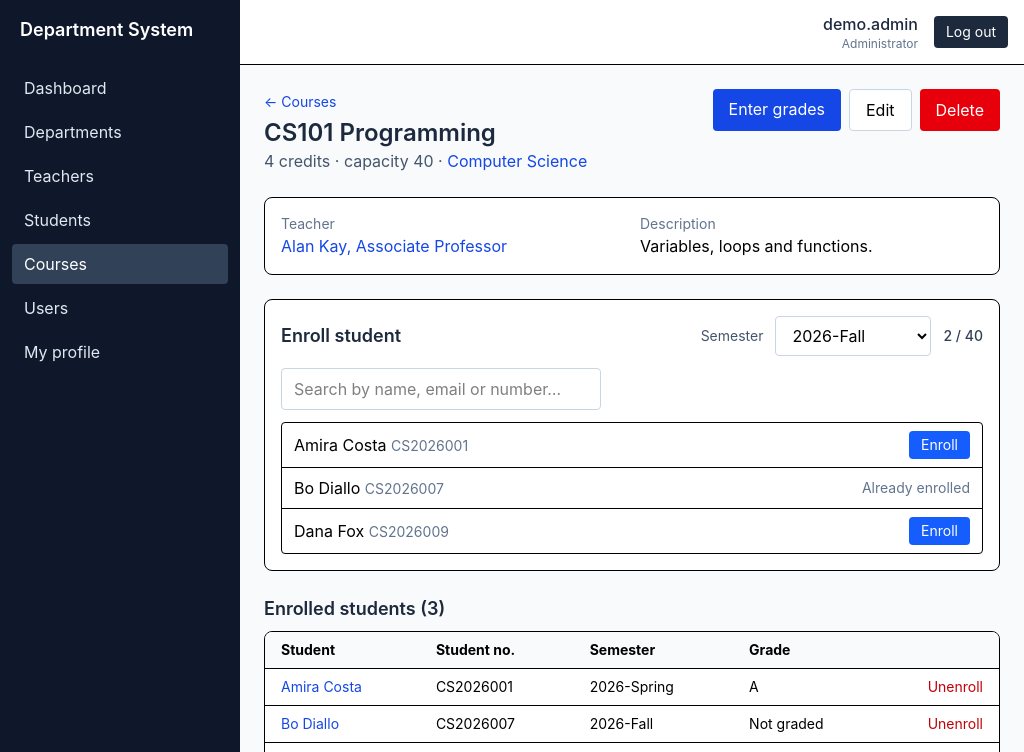
Test: picker › enrolls a student for the selected semester and refreshes the roster
Select "2027-Spring" in the dropdown labelled "Semester": (854, 336) [776, 316, 932, 356]
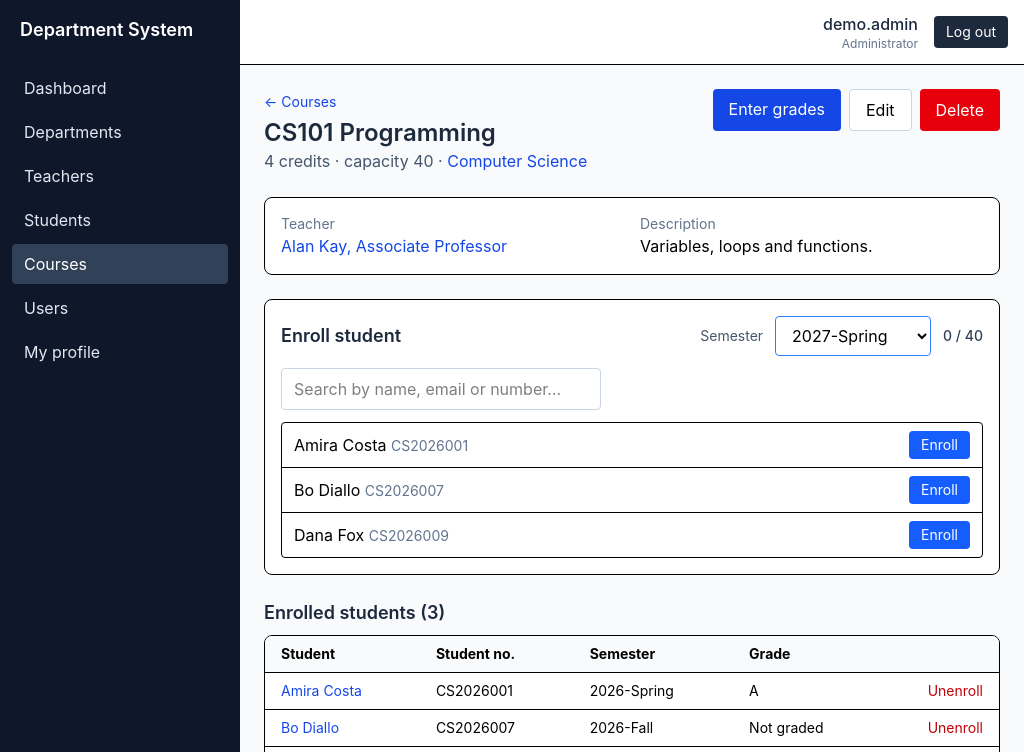
Click the button with aria-label "Enroll Dana Fox": (940, 535) [909, 521, 970, 549]
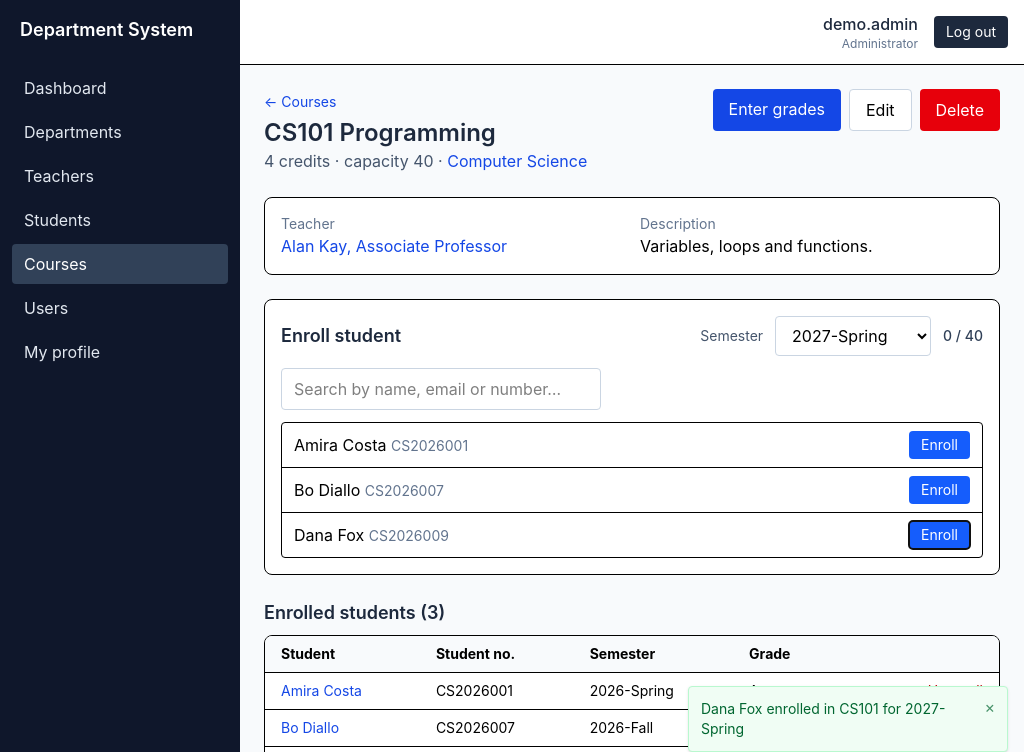
Result: the message shows "Dana Fox enrolled in CS101 for 2027-Spring" at [701, 700, 945, 737]
